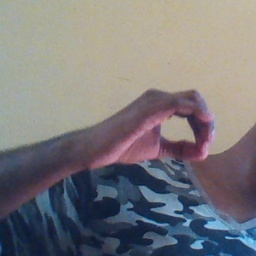O: (104, 85, 220, 168)
